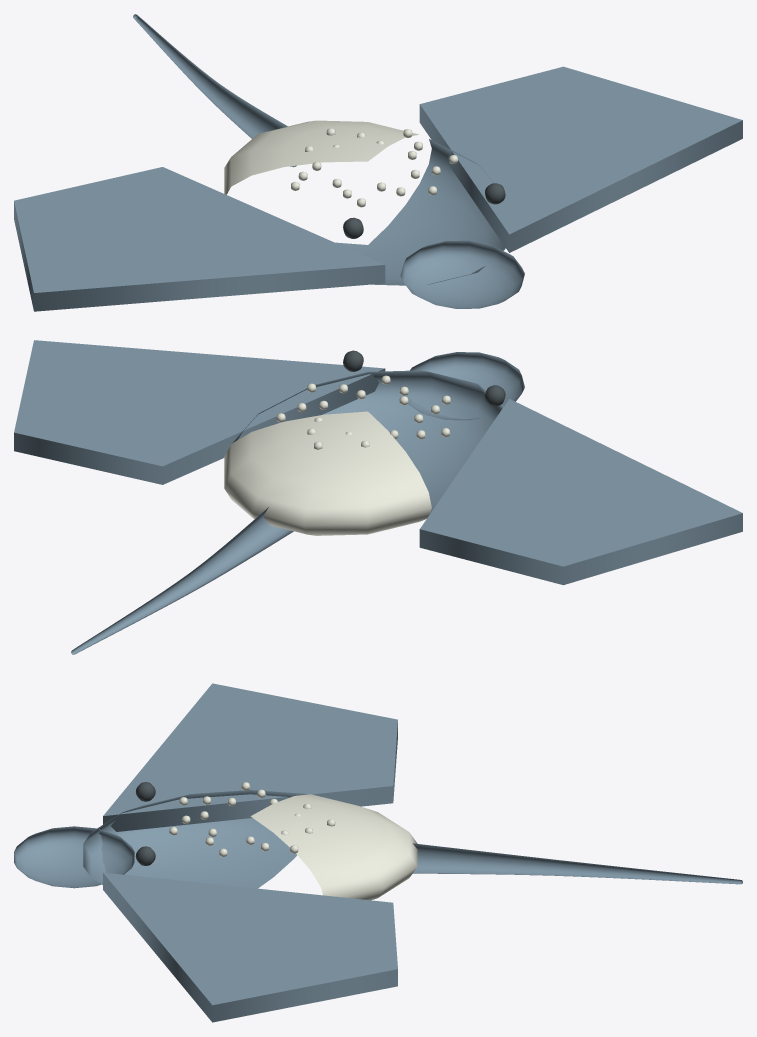
The model's file is eagle_ray.glb.
3 views of the same model, one above another, from view 1: azimuth 30°, elevation 25°; view 2: azimuth 150°, elevation 25°; view 3: azimuth 270°, elevation 25° (orthographic). The views are drawn at different scales.
Visible parts, largest first — view 1: eagle-ray; view 2: eagle-ray; view 3: eagle-ray.
Boxes of the visible parts, left/top/right/bottom form: eagle-ray: left=14, top=14, right=742, bottom=311; eagle-ray: left=14, top=340, right=742, bottom=654; eagle-ray: left=14, top=683, right=742, bottom=1022.
Bounding box in the file's own units: 2.3 × 0.2629 × 2.2.
